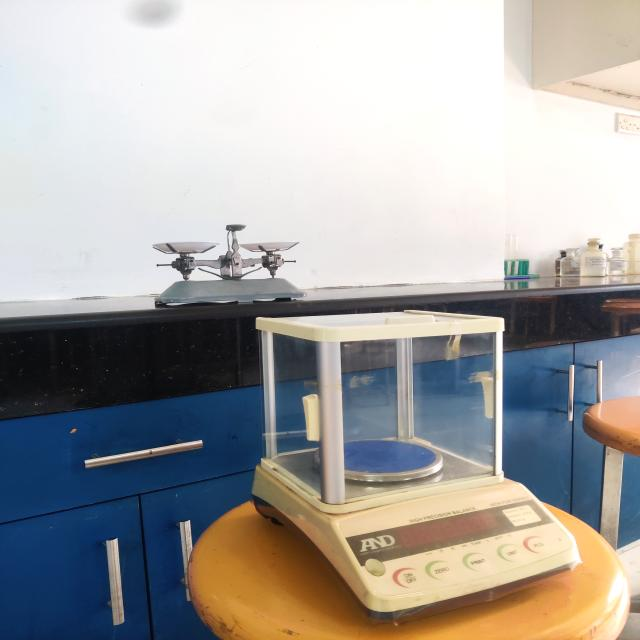Mechanical_Balance_Scale: (130, 203, 320, 314)
Precision_Weight_Scale: (237, 299, 591, 640)
